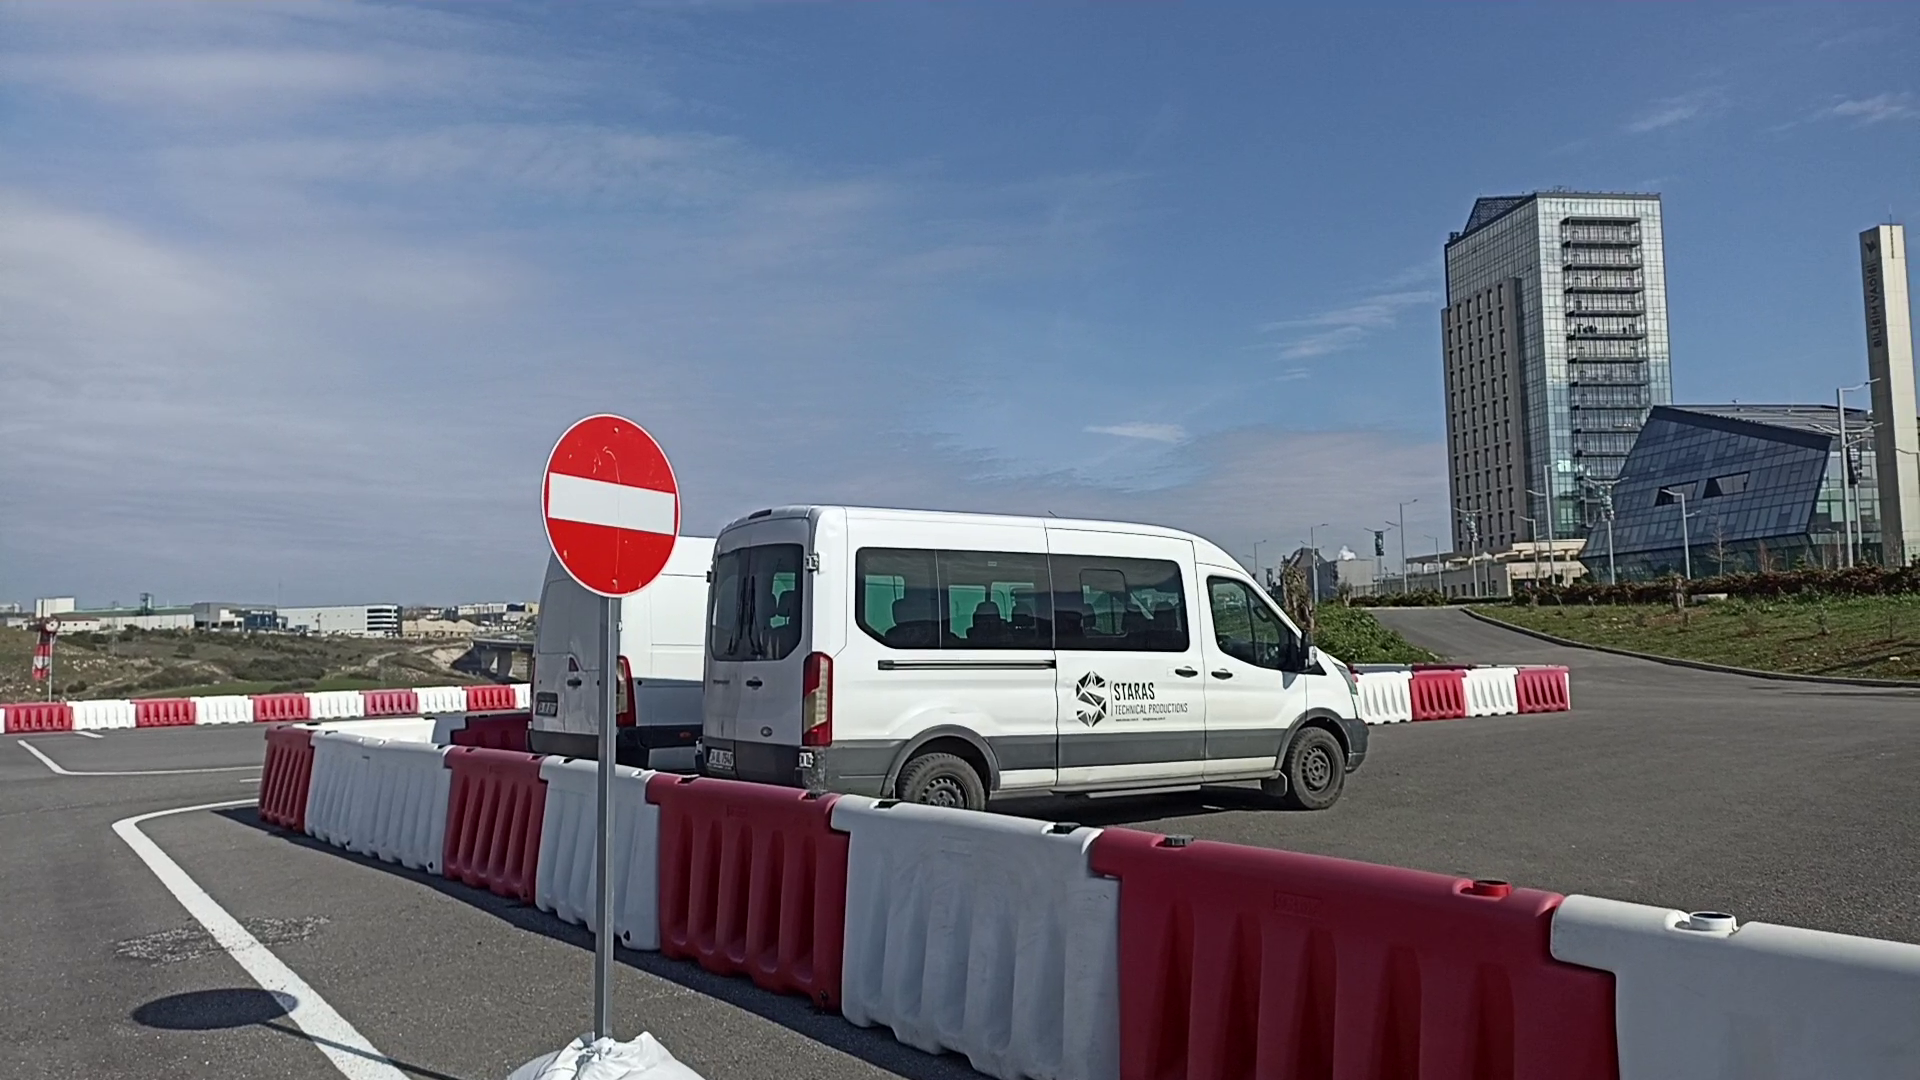noentryway: (537, 409, 684, 600)
